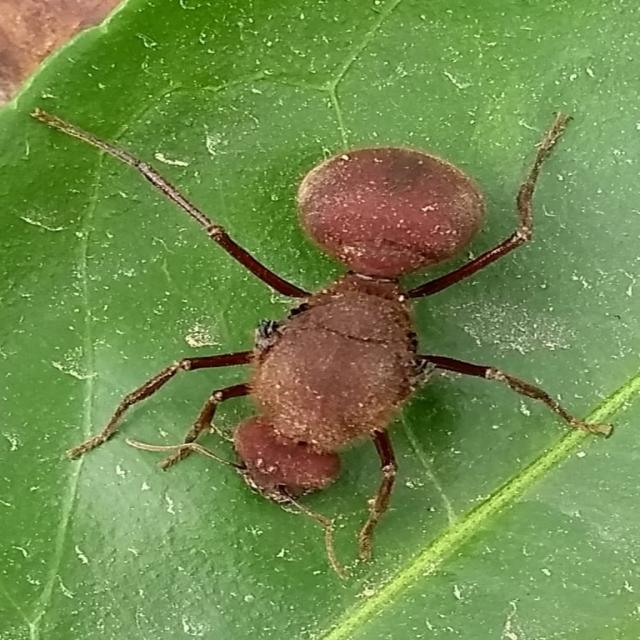Alive-Female-Dealate: (27, 104, 618, 556)
